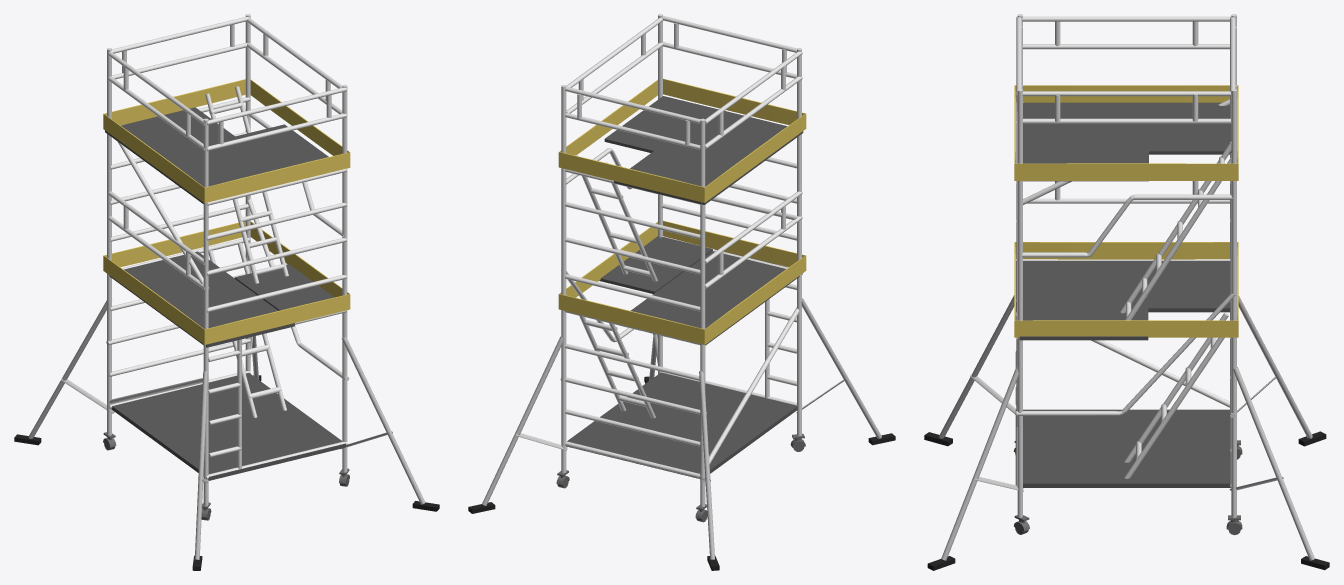
File: Andamio Móvil.fbx
3 renders of one model, left to right at view 1: azimuth 30°, elevation 25°; view 2: azimuth 150°, elevation 25°; view 3: azimuth 270°, elevation 25°, orthographic. The views are drawn at different scales.
Parts seen in each view (by area): view 1: Plane, Circle, Circle.001, SafeZone, SafeZone.001, Circle.002; view 2: Plane, Circle, Circle.001, SafeZone, SafeZone.001, Circle.002, BaseRodachines; view 3: Plane, Circle, Circle.001, SafeZone.001, SafeZone, Circle.002, BaseRodachines.
Part boxes in pixels (x1=…): Plane: x1=105, y1=107, x2=345, y2=480; Circle: x1=106, y1=14, x2=349, y2=435; Circle.001: x1=203, y1=84, x2=347, y2=506; SafeZone: x1=103, y1=79, x2=350, y2=202; SafeZone.001: x1=103, y1=221, x2=350, y2=344; Circle.002: x1=14, y1=269, x2=439, y2=570; Plane: x1=566, y1=96, x2=803, y2=478; Circle: x1=560, y1=18, x2=802, y2=506; Circle.001: x1=575, y1=14, x2=802, y2=436; SafeZone: x1=558, y1=78, x2=806, y2=202; SafeZone.001: x1=558, y1=220, x2=806, y2=344; Circle.002: x1=468, y1=298, x2=895, y2=570; BaseRodachines: x1=556, y1=433, x2=805, y2=522; Plane: x1=1015, y1=102, x2=1231, y2=487; Circle: x1=1016, y1=14, x2=1236, y2=517; Circle.001: x1=1015, y1=14, x2=1231, y2=517; SafeZone.001: x1=1014, y1=242, x2=1238, y2=337; SafeZone: x1=1014, y1=85, x2=1238, y2=180; Circle.002: x1=924, y1=295, x2=1329, y2=570; BaseRodachines: x1=1013, y1=440, x2=1242, y2=535.
Bounding box in the file's own units: 1368 × 2130 × 1736.
